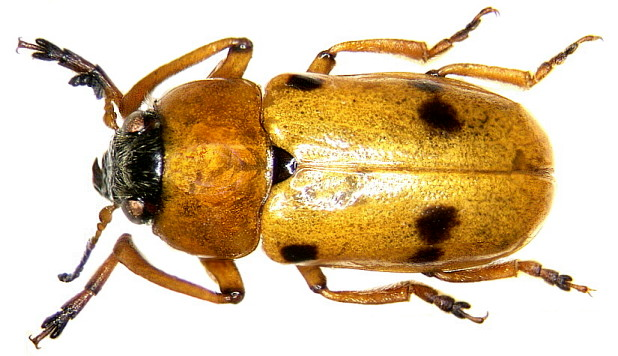Tituboea_macropus: (1, 6, 604, 343)
